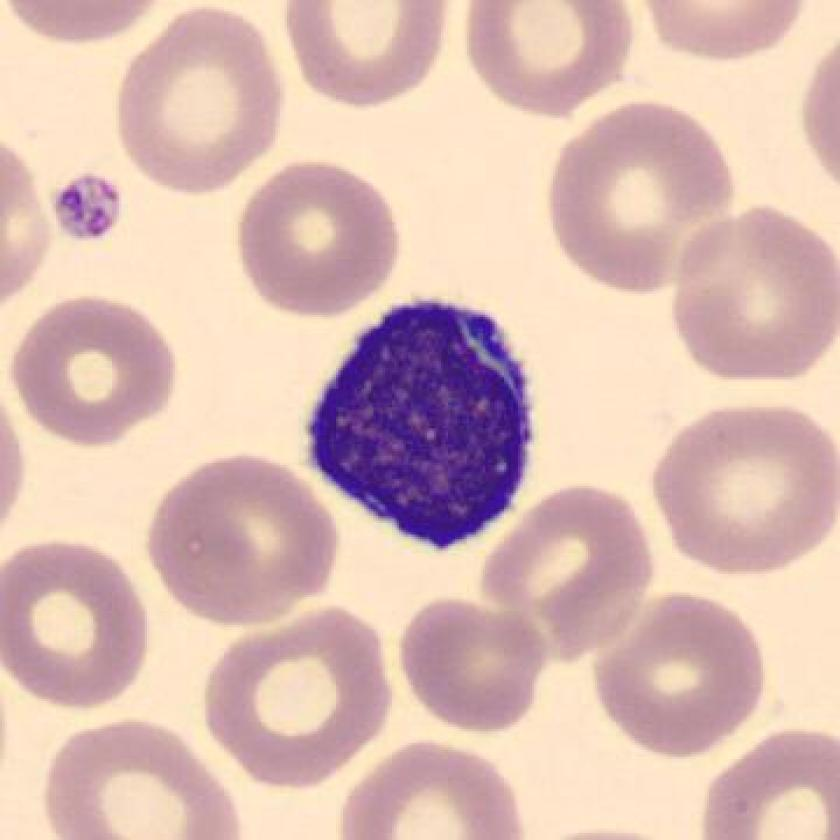lymphocyte: (286, 286, 552, 566)
